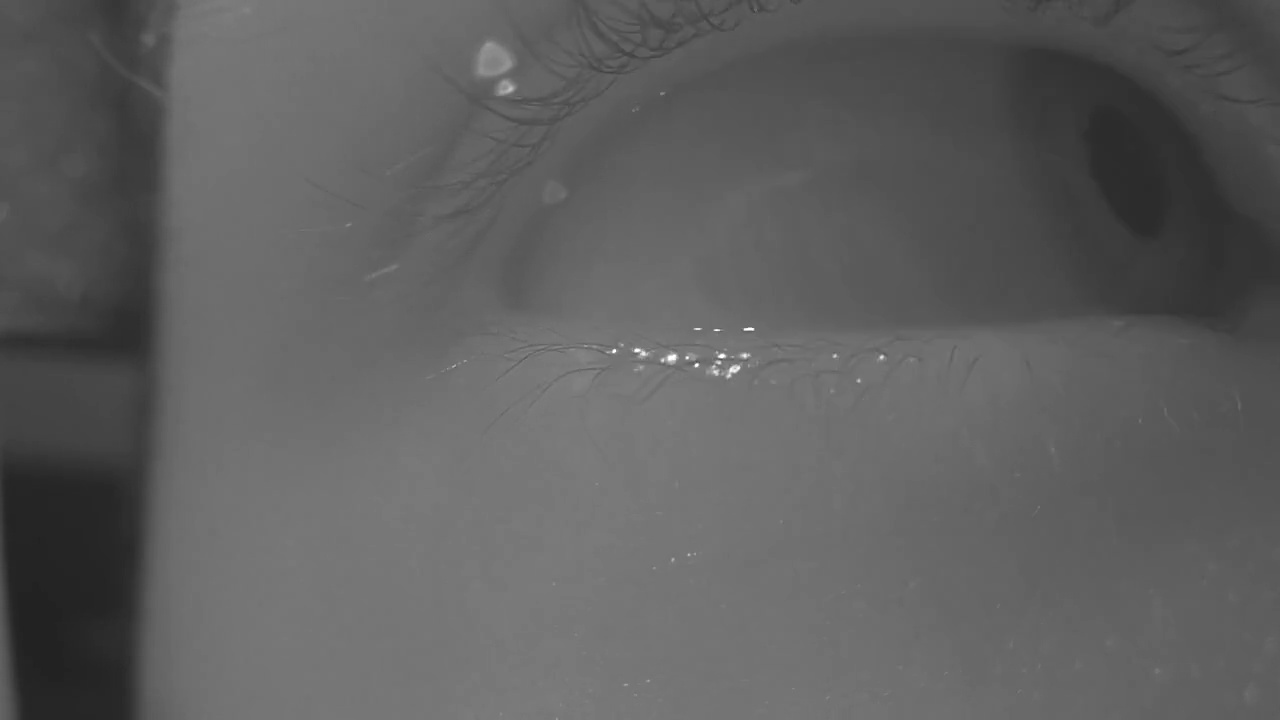pupil: (1085, 105, 1176, 239)
